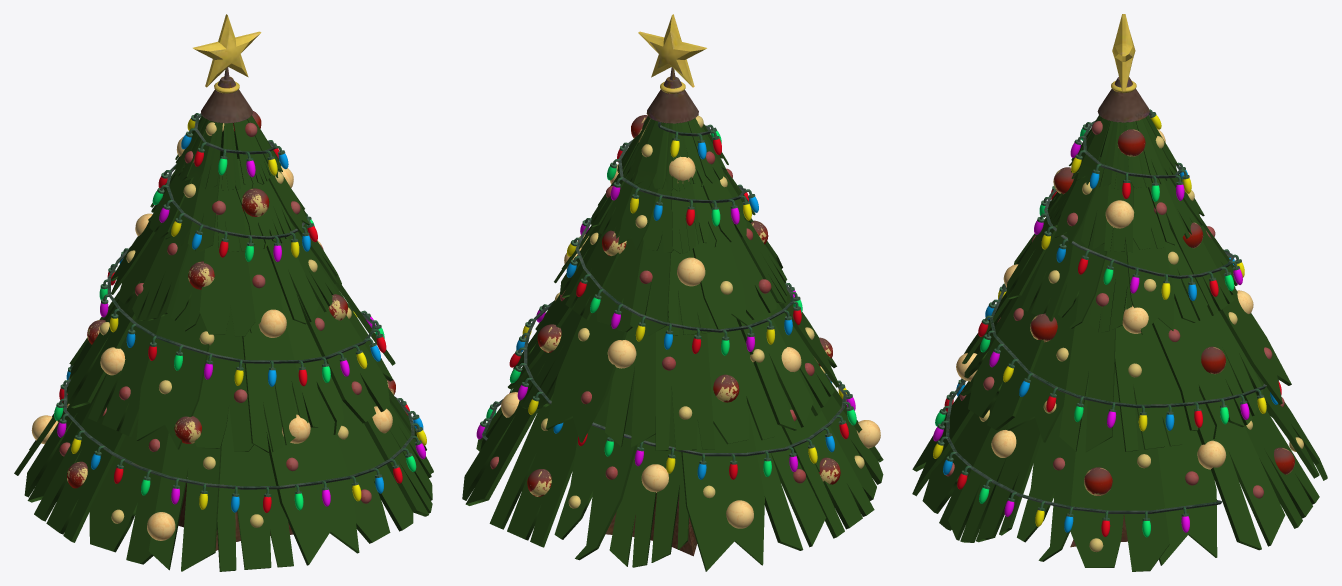
The model's file is xmasAnim5.glb.
3 renders of one model, left to right at view 1: azimuth 30°, elevation 25°; view 2: azimuth 150°, elevation 25°; view 3: azimuth 270°, elevation 25°, orthographic.
Parts seen in each view (by area): view 1: Buffer Layer.005, Buffer Layer.004, Buffer Layer, Buffer Layer.008, Buffer Layer.001, Buffer Layer.007, Buffer Layer.003, Buffer Layer.006; view 2: Buffer Layer.005, Buffer Layer.004, Buffer Layer.001, Buffer Layer.008, Buffer Layer, Buffer Layer.007, Buffer Layer.003, Buffer Layer.006, Buffer Layer.009; view 3: Buffer Layer.005, Buffer Layer.004, Buffer Layer.001, Buffer Layer.007, Buffer Layer.008, Buffer Layer.003, Buffer Layer, Buffer Layer.006.
Part boxes in pixels (x1,y1,x2,y2): Buffer Layer.005: (14,113,433,571); Buffer Layer.004: (56,14,419,550); Buffer Layer: (31,31,392,540); Buffer Layer.008: (100,135,367,504); Buffer Layer.001: (87,111,395,394); Buffer Layer.007: (54,118,426,512); Buffer Layer.003: (59,122,323,523); Buffer Layer.006: (59,140,419,480); Buffer Layer.005: (462,122,883,571); Buffer Layer.004: (554,14,846,560); Buffer Layer.001: (501,115,801,496); Buffer Layer.008: (566,131,856,438); Buffer Layer: (650,31,880,528); Buffer Layer.007: (476,140,847,479); Buffer Layer.003: (490,144,864,508); Buffer Layer.006: (480,130,853,464); Buffer Layer.009: (590,138,729,355); Buffer Layer.005: (912,109,1319,571); Buffer Layer.004: (937,14,1327,547); Buffer Layer.001: (1053,129,1294,495); Buffer Layer.007: (933,115,1281,537); Buffer Layer.008: (933,128,1218,458); Buffer Layer.003: (1032,121,1303,552); Buffer Layer: (956,30,1135,457); Buffer Layer.006: (946,150,1278,520).
Bounding box in the file's own units: 0.5925 × 0.801 × 0.5902.
Materials: 2 (2 with a texture image).
